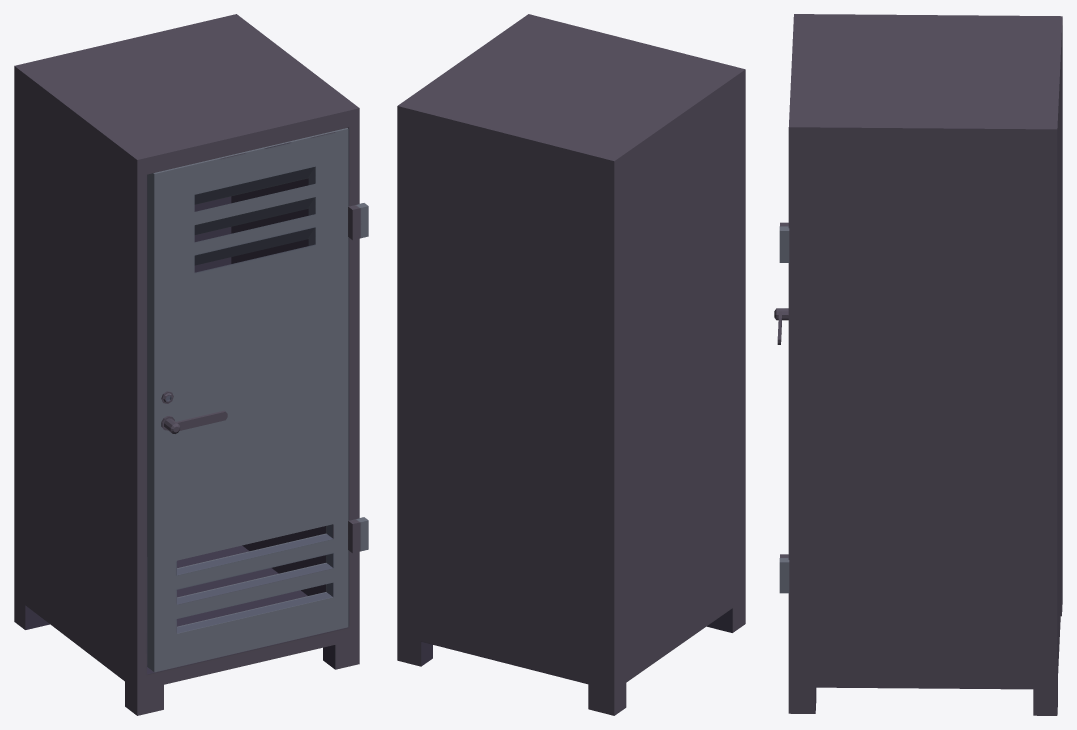
File: LemariKebersihan.fbx
The picture shows the model from 3 angles, left to right: view 1: azimuth 30°, elevation 25°; view 2: azimuth 150°, elevation 25°; view 3: azimuth 270°, elevation 25°; orthographic projection. The views are drawn at different scales.
Visible parts, largest first — view 1: Lemari Kebersihan.001, Lemari Kebersihan; view 2: Lemari Kebersihan.001; view 3: Lemari Kebersihan.001, Lemari Kebersihan.
Boxes of the visible parts, x1,y1,x2,y2 form: Lemari Kebersihan.001: (14, 14, 359, 715); Lemari Kebersihan: (147, 128, 368, 672); Lemari Kebersihan.001: (397, 14, 745, 715); Lemari Kebersihan.001: (788, 14, 1062, 715); Lemari Kebersihan: (774, 222, 789, 593).
Bounding box in the file's own units: 188 × 445 × 198.
